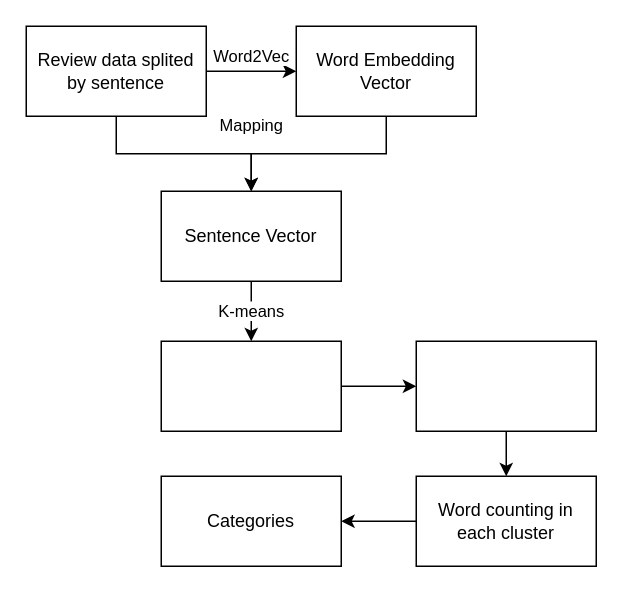
This 623x593 diagram has some shape labels left out. Each missing label, with the box of its shape:
Clustered Sentences: (160, 340, 341, 431)
Sentence Keyword Extraction: (415, 340, 596, 431)
